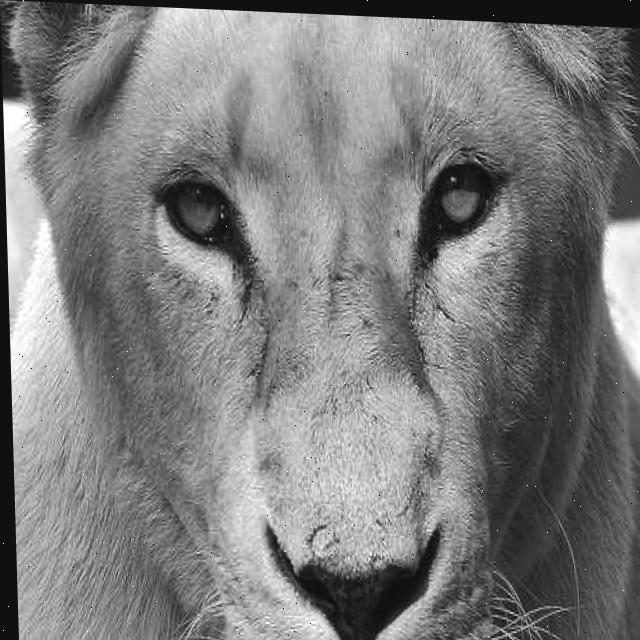Lion: (24, 7, 640, 640)
